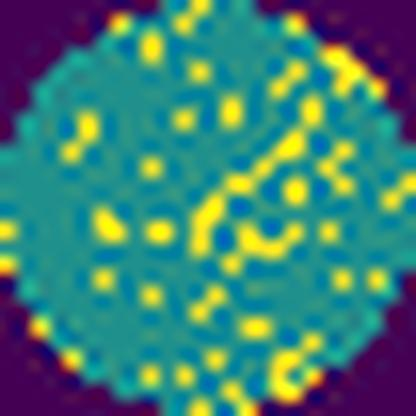Scratch: (188, 90, 327, 264)
